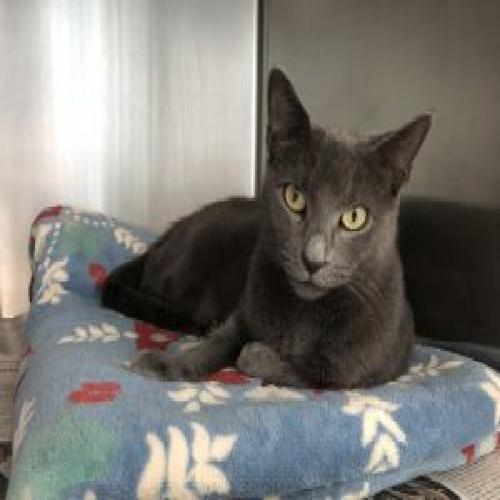rblue: (259, 62, 435, 298)
